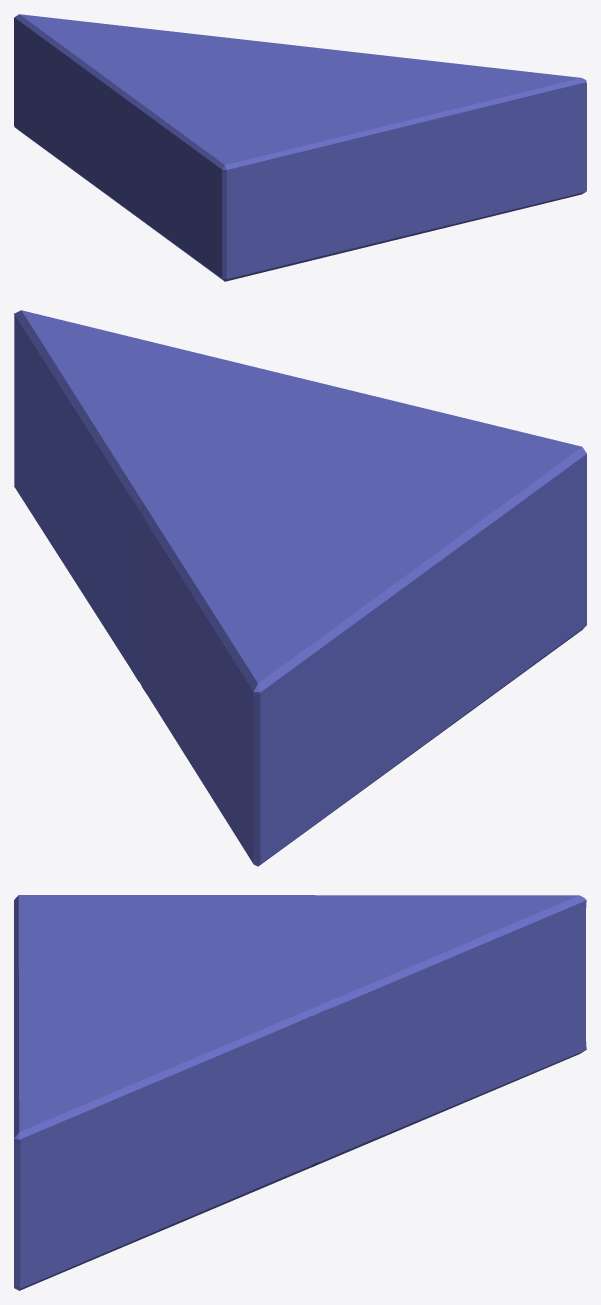
Rendered from Triangulo_02.fbx.
3 renders of one model, top to bottom at view 1: azimuth 30°, elevation 25°; view 2: azimuth 150°, elevation 25°; view 3: azimuth 270°, elevation 25°, orthographic. The views are drawn at different scales.
Visible parts, largest first — view 1: polySurface12; view 2: polySurface12; view 3: polySurface12.
Boxes of the visible parts, x1,y1,x2,y2 form: polySurface12: (14,14,586,281); polySurface12: (14,310,586,866); polySurface12: (14,895,586,1290).
Bounding box in the file's own units: 4.09 × 1.25 × 4.09.
